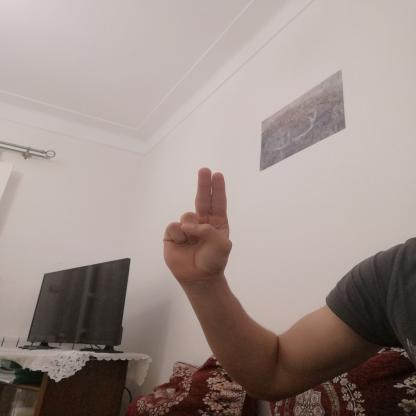TA: (150, 159, 242, 289)
